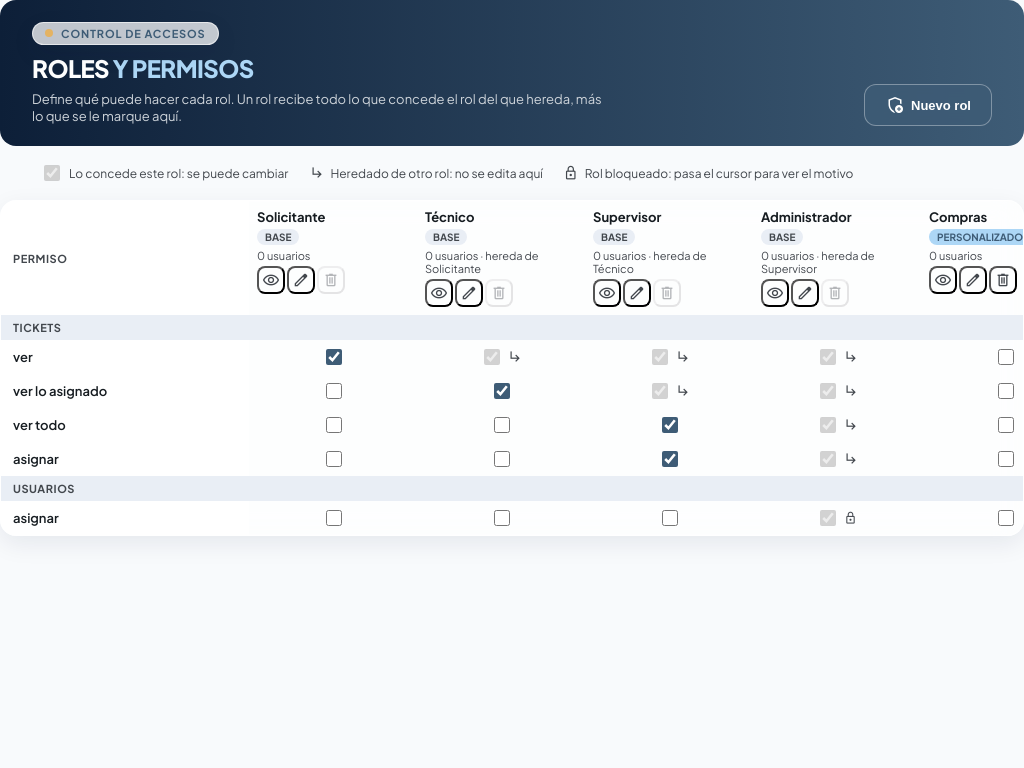
Test: RolesComponent (matrix of permissions by role) › shows the server explanation when a name is repeated and keeps the form open
Click the button "Nuevo rol" at (928, 105), box [864,84,992,126]
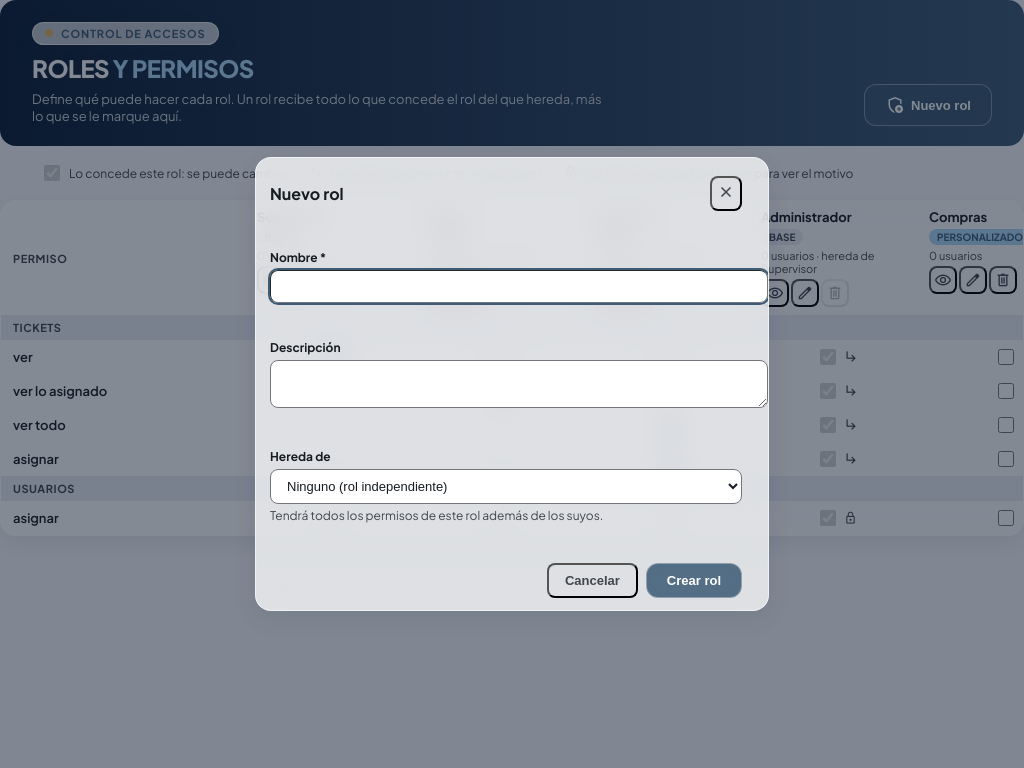
Type "Jefe" into the field with id "rf-name" at (519, 287), box [270,270,768,303]
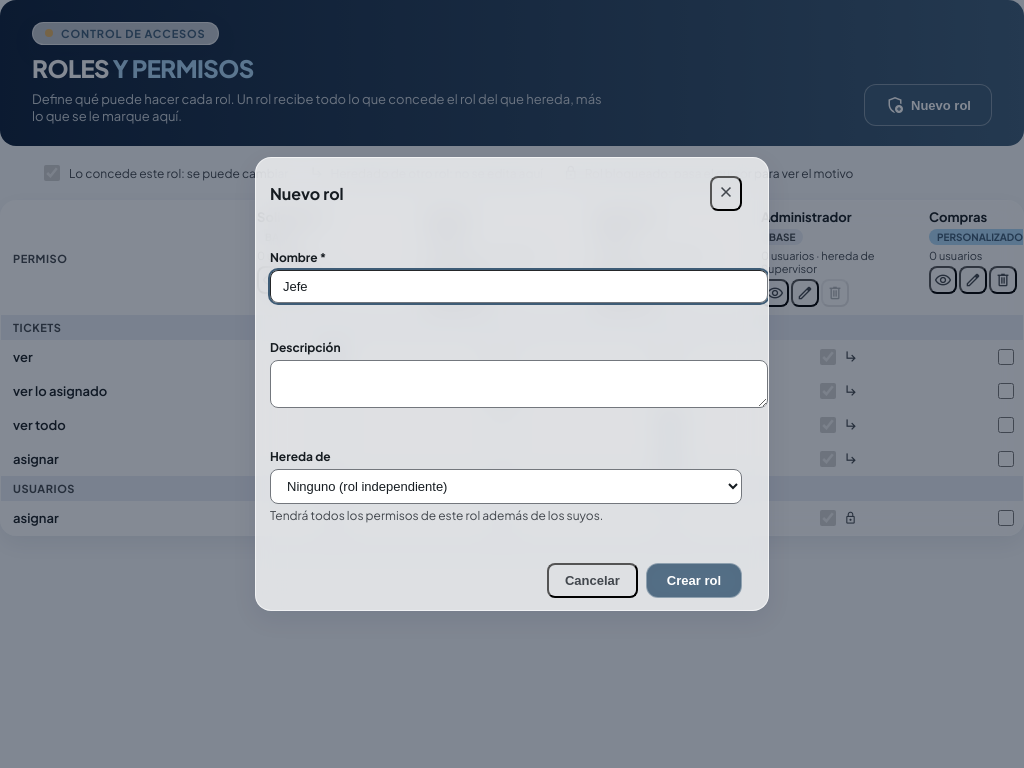
Submit the dialog, box [255,157,769,611]
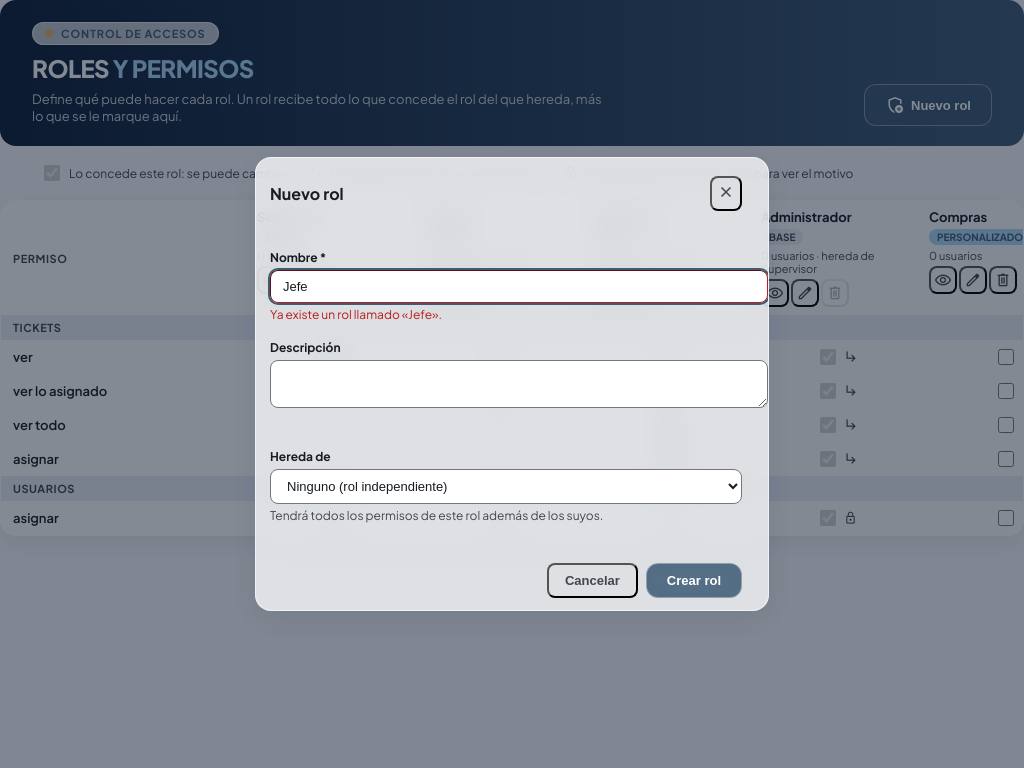
expect the dialog is shown: met, box [255,157,769,611]
expect the message with id "rf-name-err" shows "Ya existe un rol llamado «Jefe»": met, box [270,307,442,322]
